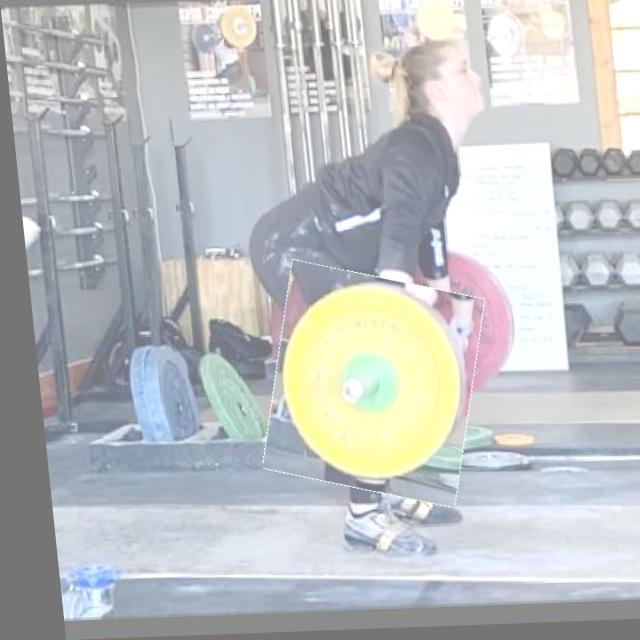barbell: (249, 267, 483, 506)
